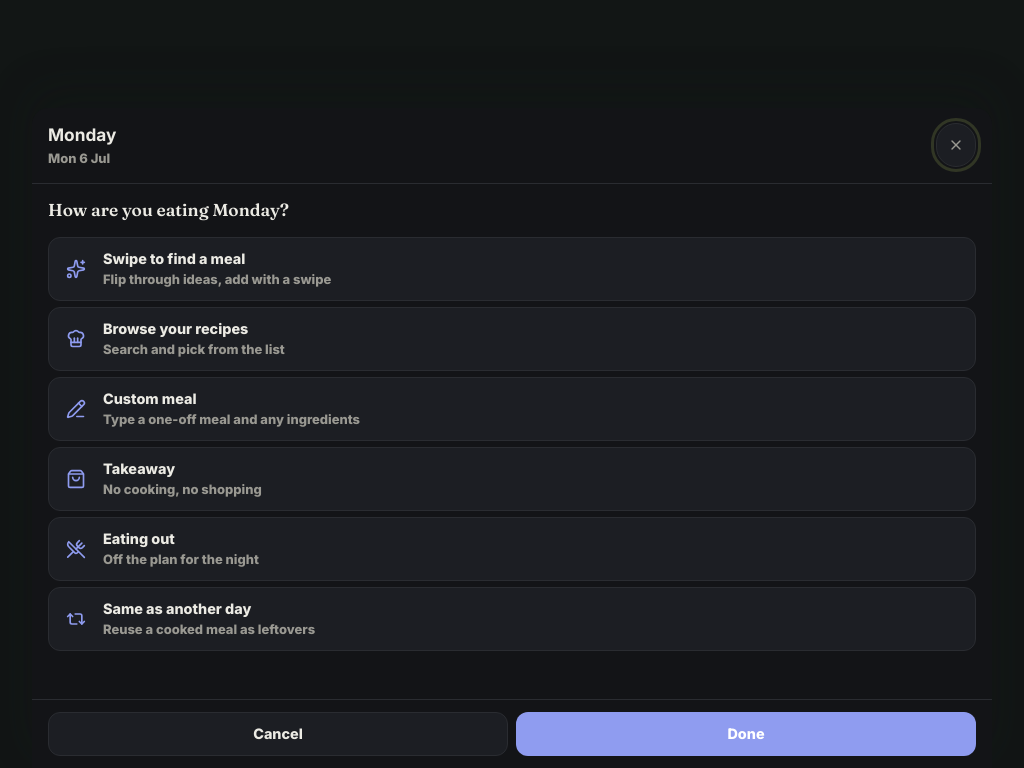
Scenario: MealEditorSheet — recipe picker › backs out of a preview without touching the day
Click the button "Browse your recipes Search and pick from the list": (176, 328) [48, 307, 976, 371]
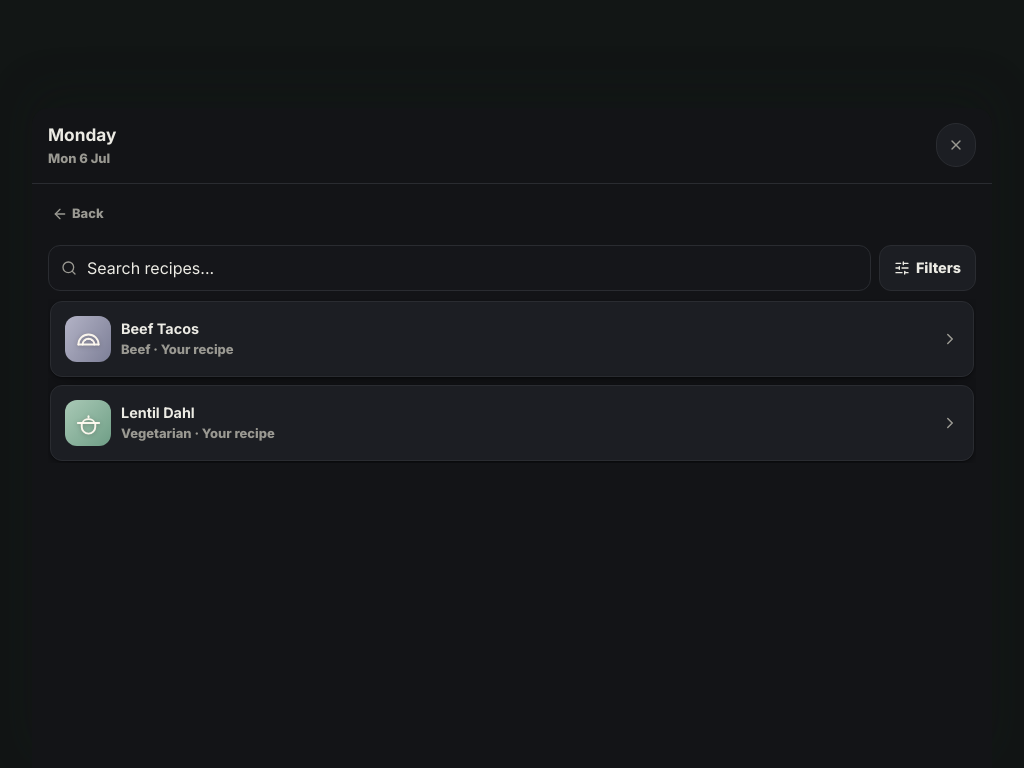
Click the button "Beef Tacos Beef · Your recipe": (88, 339) [50, 301, 974, 377]
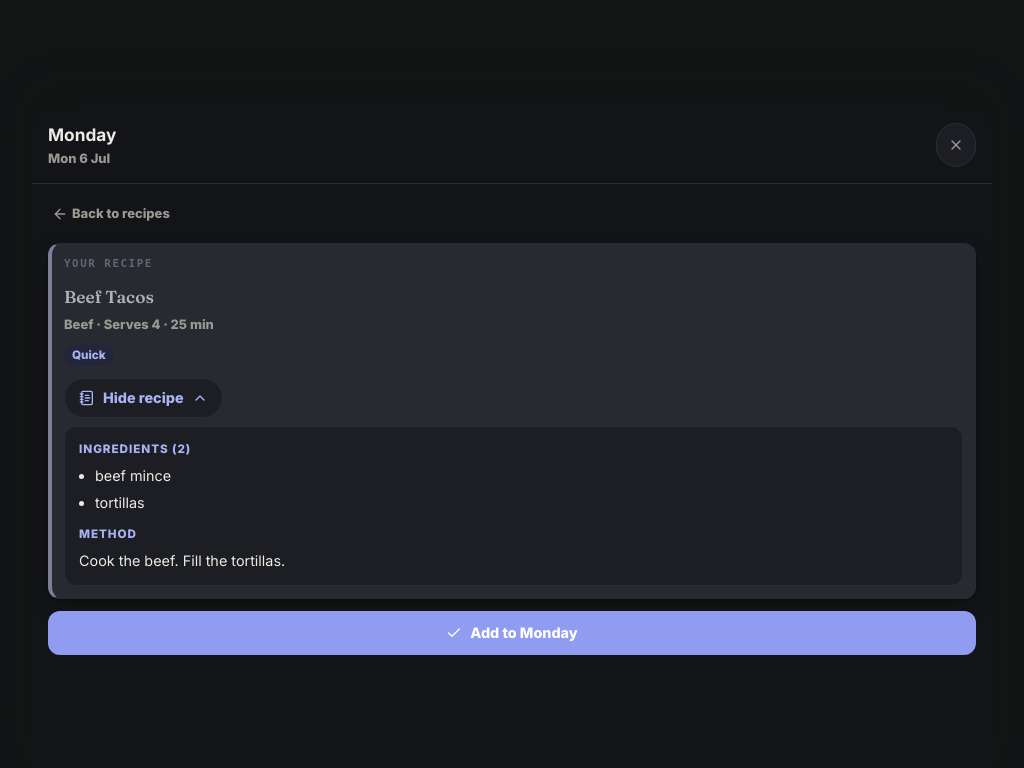
Click the button "Back to recipes": (121, 213) [48, 200, 976, 227]
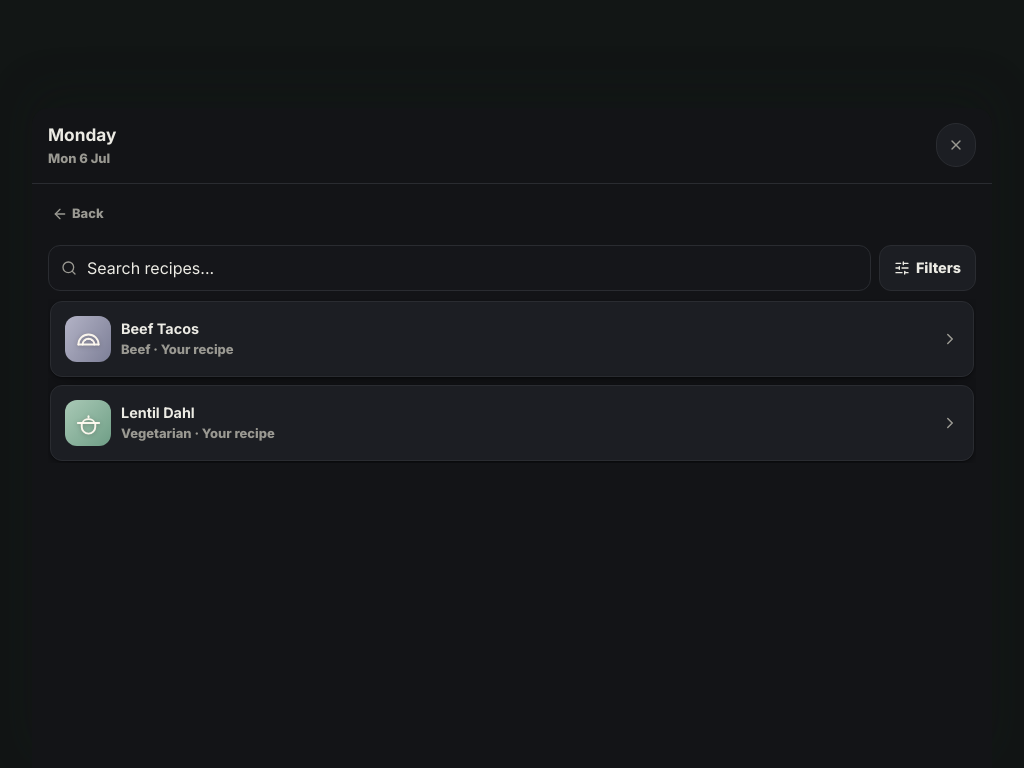
Expected: the button "Lentil Dahl Vegetarian · Your recipe" is shown, [50, 385, 974, 461]
Expected: the button "Beef Tacos Beef · Your recipe" is shown, [50, 301, 974, 377]
